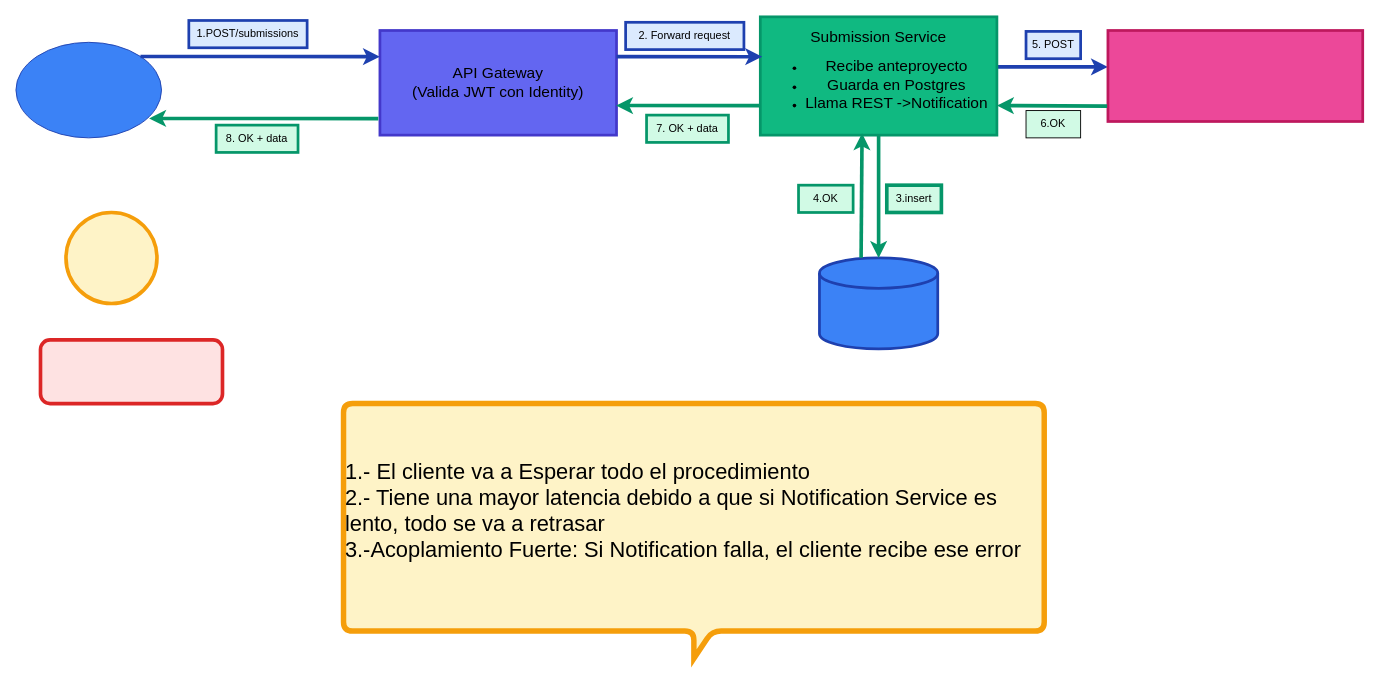
Image size: 1380x677. Some labels were removed from this diagram. Each missing label, with the centre of its shape:
BLOQUEADO (El cliente espera TODO el proceso): pixel 131 371
Cliente: pixel 88 89
ESPERANDO...: pixel 111 257
Notification Service Recibe petición REST Log "notification enviada": pixel 1235 75
Postgres: pixel 878 303
